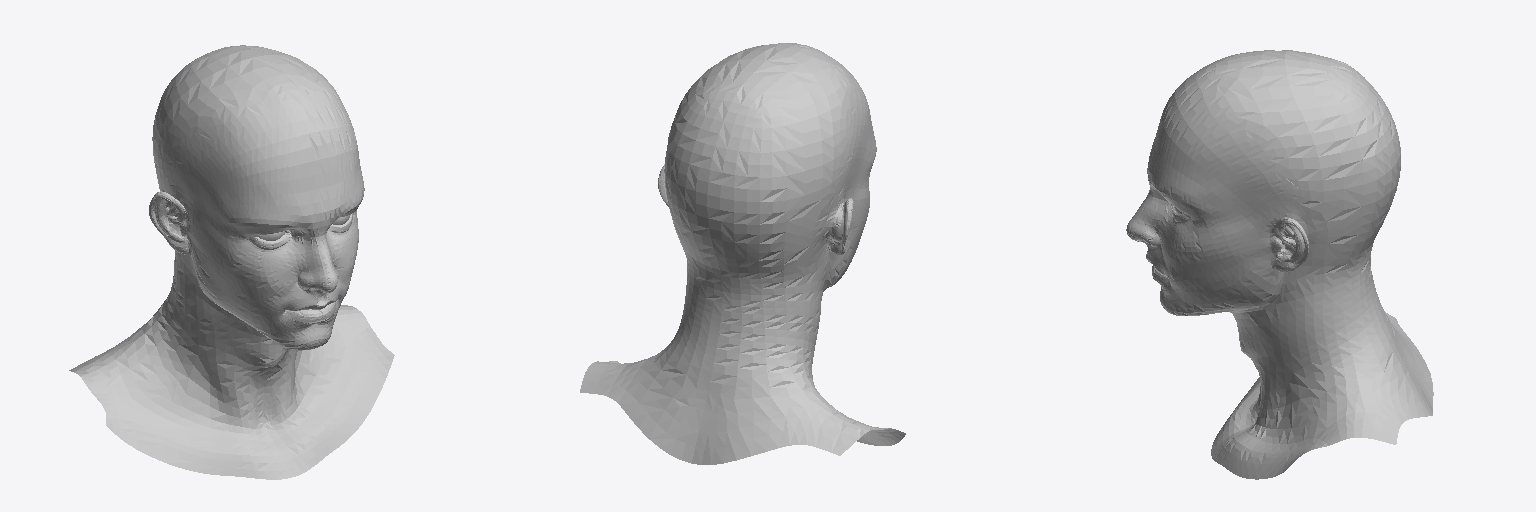
Rendered from BaldGuy.obj.
The picture shows the model from 3 angles: view 1: azimuth 30°, elevation 25°; view 2: azimuth 150°, elevation 25°; view 3: azimuth 270°, elevation 25°; orthographic projection.
Visible parts, largest first — view 1: BaldGuy; view 2: BaldGuy; view 3: BaldGuy.
Part boxes in pixels (left/top/right/bottom): BaldGuy: left=69, top=45, right=394, bottom=479; BaldGuy: left=580, top=43, right=905, bottom=464; BaldGuy: left=1126, top=50, right=1433, bottom=479.
Bounding box in the file's own units: 25.9 × 33.76 × 23.88.